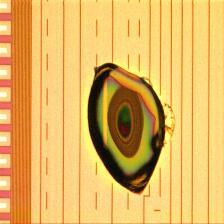PARTICLE: (81, 57, 178, 202)
